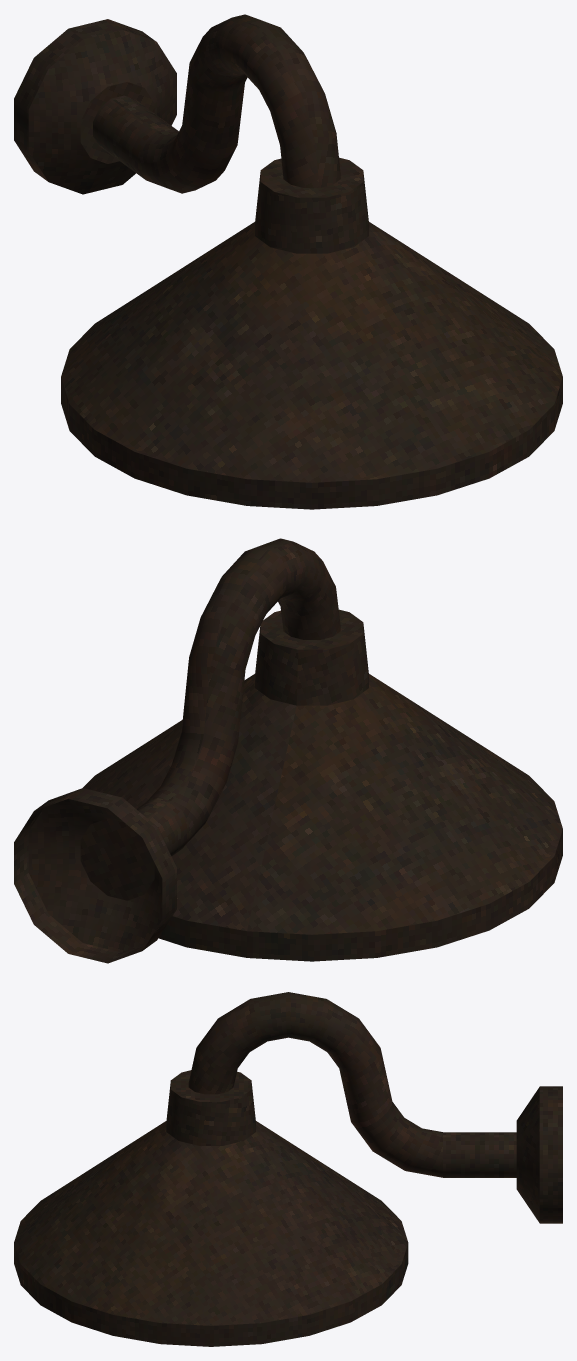
File: lamp_mx_3_off.glb
3 renders of one model, top to bottom at view 1: azimuth 30°, elevation 25°; view 2: azimuth 150°, elevation 25°; view 3: azimuth 270°, elevation 25°, orthographic. The views are drawn at different scales.
Visible parts, largest first — view 1: lamp_mx_3_off; view 2: lamp_mx_3_off; view 3: lamp_mx_3_off.
Part boxes in pixels (left/top/right/bottom): lamp_mx_3_off: left=14, top=14, right=562, bottom=509; lamp_mx_3_off: left=14, top=538, right=562, bottom=963; lamp_mx_3_off: left=14, top=992, right=562, bottom=1346.
Bounding box in the file's own units: 0.51 × 0.418 × 0.71.
2 materials, 2 textured.
